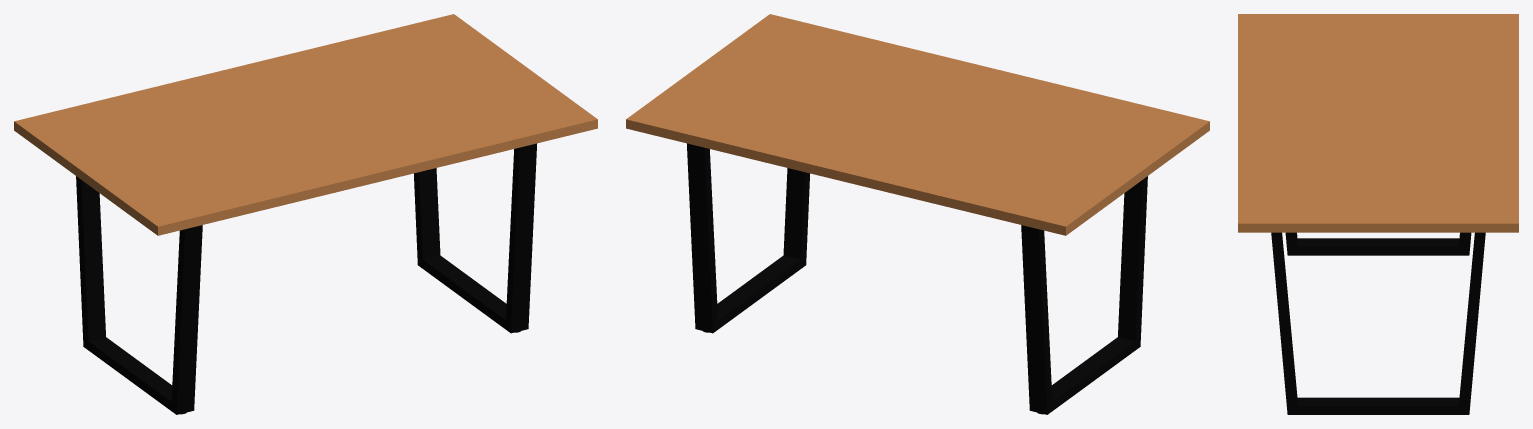
3 views of the same model, side by side, from view 1: azimuth 30°, elevation 25°; view 2: azimuth 150°, elevation 25°; view 3: azimuth 270°, elevation 25° (orthographic). The views are drawn at different scales.
Parts seen in each view (by area): view 1: table; view 2: table; view 3: table.
Part boxes in pixels (bbox=[...]): table: bbox=[14, 14, 597, 414]; table: bbox=[626, 14, 1209, 414]; table: bbox=[1238, 14, 1518, 414].
Size of the model in its own units: 1.5 by 0.715 by 0.85.
